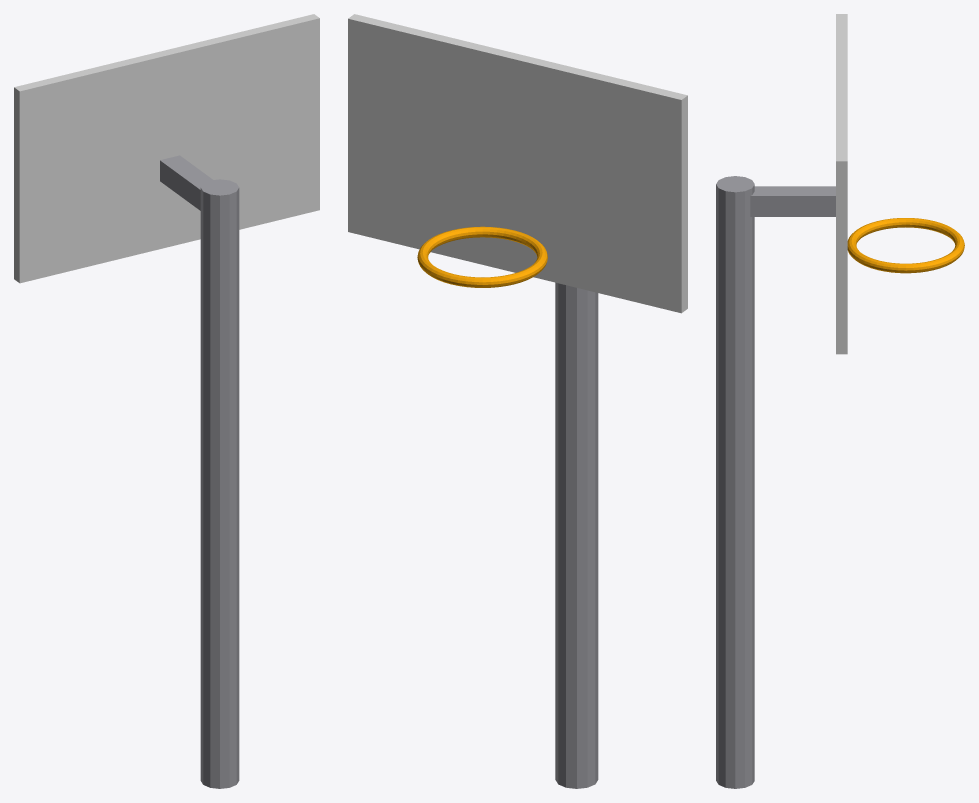
File: Hoop.fbx
The picture shows the model from 3 angles, left to right: view 1: azimuth 30°, elevation 25°; view 2: azimuth 150°, elevation 25°; view 3: azimuth 270°, elevation 25°; orthographic projection. The views are drawn at different scales.
Parts seen in each view (by area): view 1: Hoop; view 2: Hoop; view 3: Hoop.
Boxes of the visible parts, x1,y1,x2,y2 form: Hoop: [14, 14, 319, 788]; Hoop: [348, 14, 687, 788]; Hoop: [716, 14, 964, 788].
Size of the model in its own units: 180 by 395 by 129.
